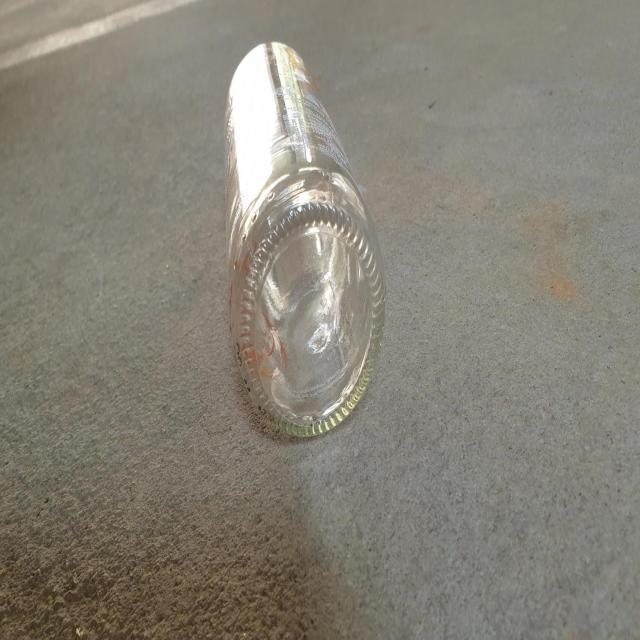glass: (226, 41, 386, 436)
